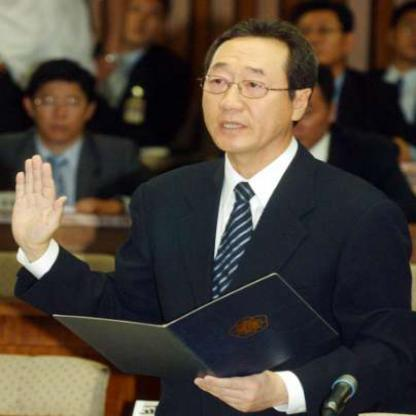face: (199, 30, 299, 158), (34, 64, 91, 144), (272, 75, 331, 152), (294, 5, 348, 67), (125, 1, 165, 46)
